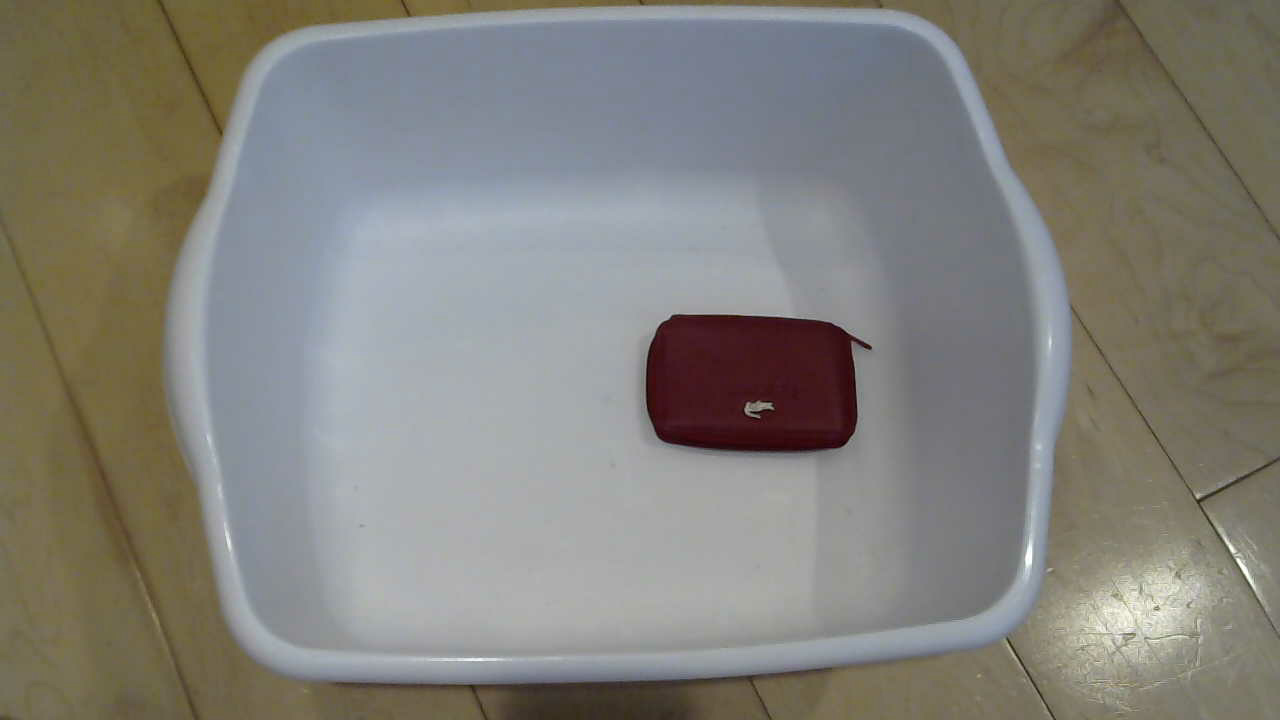wallet: (638, 312, 878, 467)
